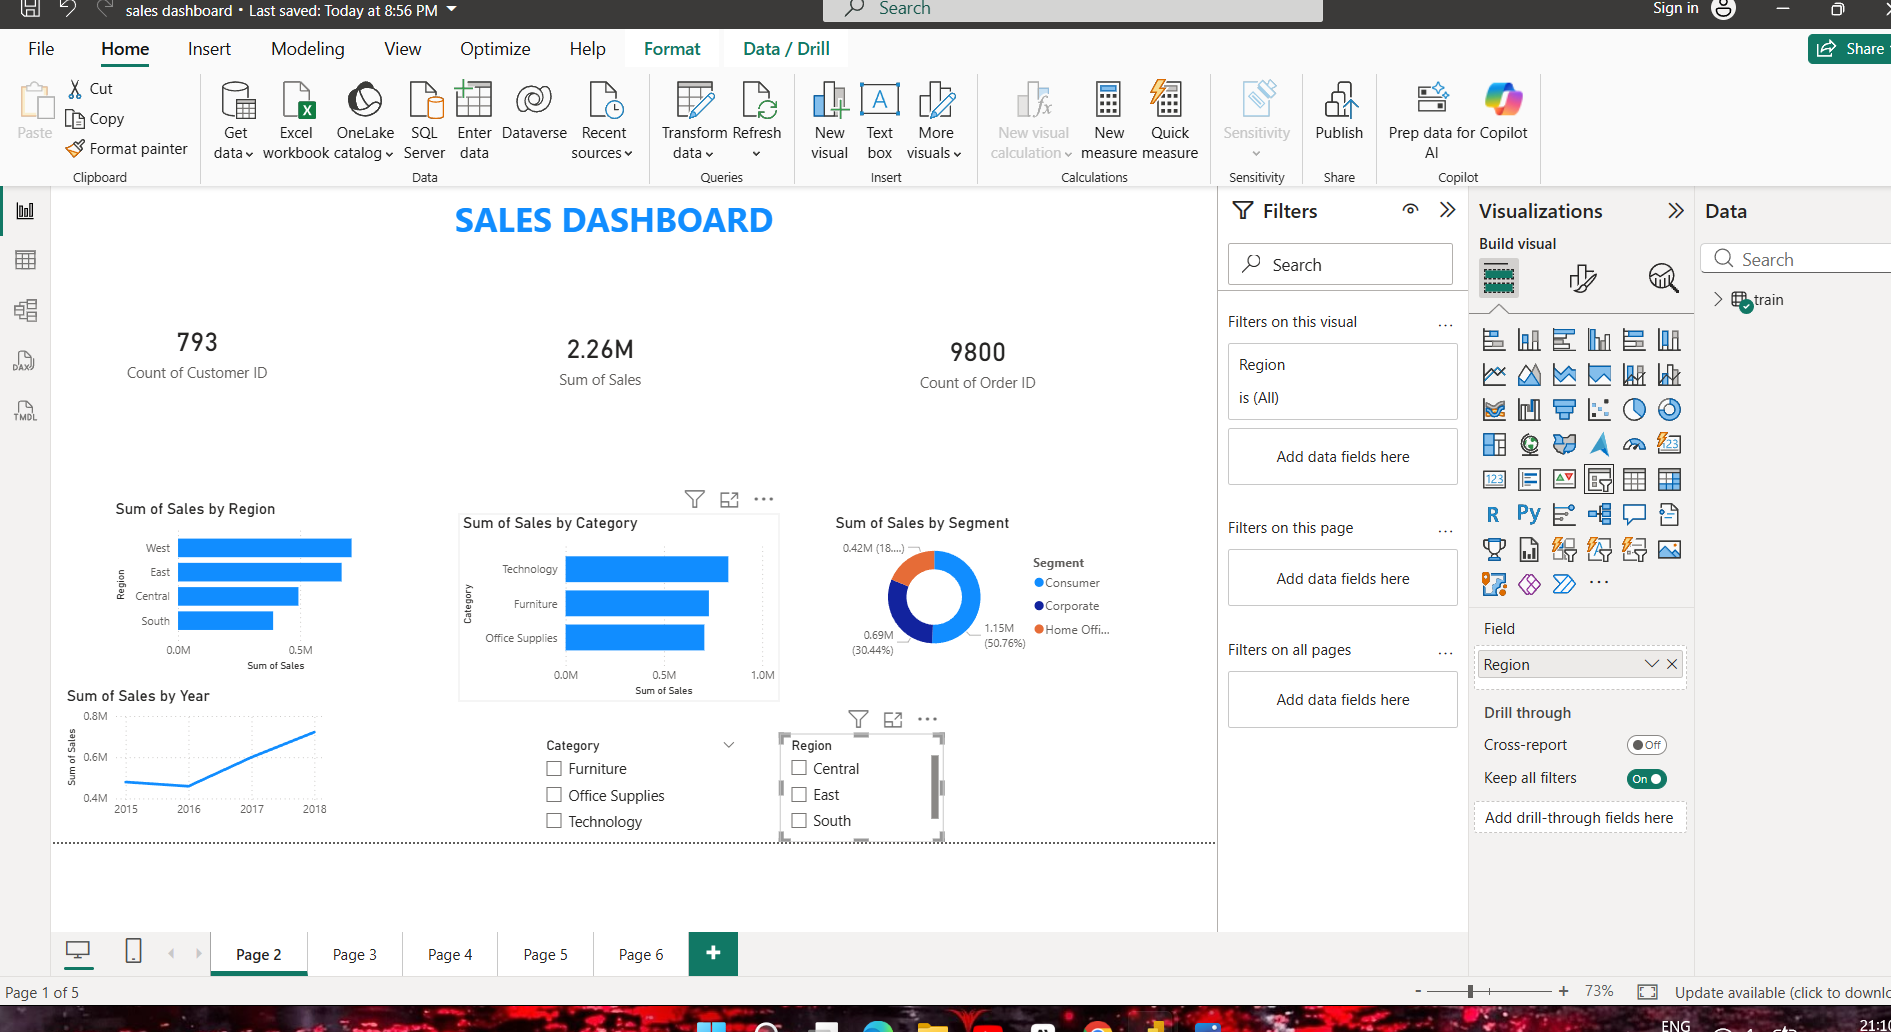

Layout of this report page (visuals, bound fields, positions):
{"tool":"powerbi","page":{"name":"Page 2","canvas":[1280,720],"ordinal":0},"visuals":[{"type":"card","fields":{"Values":["Sum(train.Sales)"]},"box":[495.4,124.9,256.6,140],"z":0},{"type":"card","fields":{"Values":["CountNonNull(train.Order ID)"]},"box":[942.7,109.8,234.6,148.2],"z":1000},{"type":"card","fields":{"Values":["Count(train.Customer ID)"]},"box":[96.1,109.8,211.3,170.2],"z":2000},{"type":"clusteredBarChart","fields":{"Category":["train.Category"],"Y":["Sum(train.Sales)"]},"box":[447.3,359.5,352.7,205.8],"z":3000},{"type":"donutChart","fields":{"Category":["train.Segment"],"Y":["Sum(train.Sales)"]},"box":[856.3,359.5,321.1,164.7],"z":4000},{"type":"lineChart","fields":{"Category":["train.Order Date.Variation.Date Hierarchy.Year","train.Order Date.Variation.Date Hierarchy.Quarter","train.Order Date.Variation.Date Hierarchy.Month","train.Order Date.Variation.Date Hierarchy.Day"],"Y":["Sum(train.Sales)"]},"box":[12.3,548.9,295,153.7],"z":5000},{"type":"clusteredBarChart","fields":{"Category":["train.Region"],"Y":["Sum(train.Sales)"]},"box":[65.9,344.4,307.4,193.5],"z":6000},{"type":"slicer","fields":{"Values":["train.Category"]},"box":[531,601,231.9,119.4],"z":7000},{"type":"slicer","fields":{"Values":["train.Region"]},"box":[800,601,179.8,119.4],"z":8000},{"type":"textbox","box":[0,5.5,1280.3,119.4],"z":9000},{"type":"textbox","box":[800,6,320,150],"z":10000},{"type":"textbox","box":[980,570,197,150],"z":11000}]}

Visuals, with their boxes on the page's 1280x720 design canvas (x1, y1, x2, y2). These are canvas units, not pixel positions in the 1891x1032 screenshot, which may show the page scaled, cropped or inside an application window:
card - Sum(train.Sales): locate(495, 125, 752, 265)
card - CountNonNull(train.Order ID): locate(943, 110, 1177, 258)
card - Count(train.Customer ID): locate(96, 110, 307, 280)
clusteredBarChart - train.Category x Sum(train.Sales): locate(447, 360, 800, 565)
donutChart - train.Segment x Sum(train.Sales): locate(856, 360, 1177, 524)
lineChart - train.Order Date.Variation.Date Hierarchy.Year x train.Order Date.Variation.Date Hierarchy.Quarter: locate(12, 549, 307, 703)
clusteredBarChart - train.Region x Sum(train.Sales): locate(66, 344, 373, 538)
slicer - train.Category: locate(531, 601, 763, 720)
slicer - train.Region: locate(800, 601, 980, 720)
textbox: locate(0, 6, 1280, 125)
textbox: locate(800, 6, 1120, 156)
textbox: locate(980, 570, 1177, 720)
